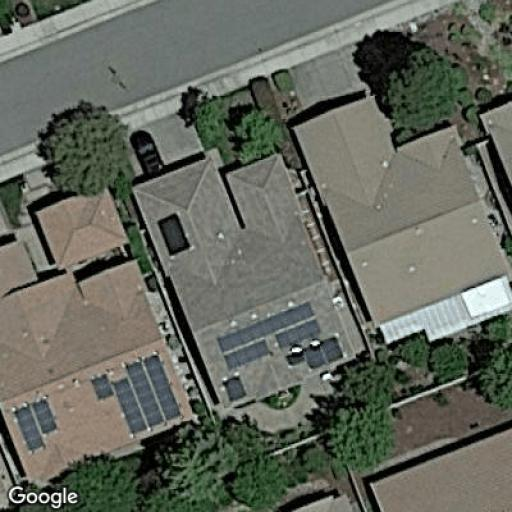solar-panel: (214, 300, 346, 370), (90, 352, 181, 436), (12, 396, 58, 452), (156, 210, 192, 258), (220, 372, 247, 403)
